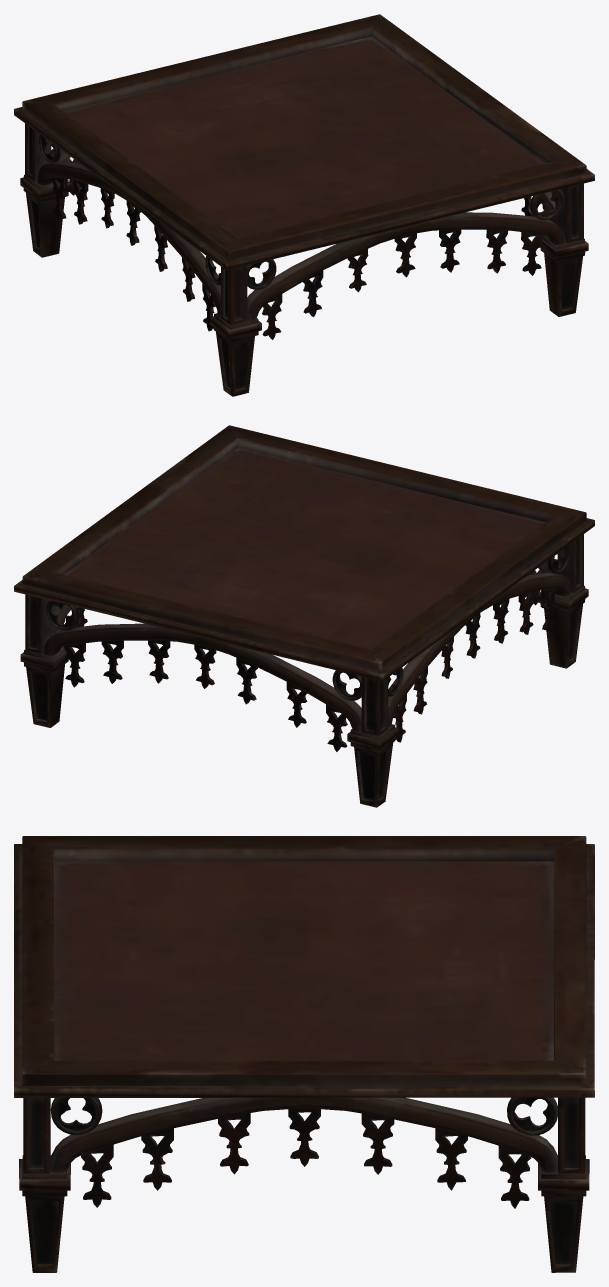
The model's file is gothic_coffee_table.glb.
The picture shows the model from 3 angles, top to bottom: view 1: azimuth 30°, elevation 25°; view 2: azimuth 150°, elevation 25°; view 3: azimuth 270°, elevation 25°; orthographic projection. The views are drawn at different scales.
Parts seen in each view (by area): view 1: gothic_coffee_table; view 2: gothic_coffee_table; view 3: gothic_coffee_table.
Part boxes in pixels (bbox=[...]): gothic_coffee_table: bbox=[14, 14, 594, 396]; gothic_coffee_table: bbox=[14, 425, 594, 807]; gothic_coffee_table: bbox=[14, 836, 594, 1272].
Size of the model in its own units: 1.44 by 0.558 by 1.44.
Materials: 1 (1 with a texture image).
